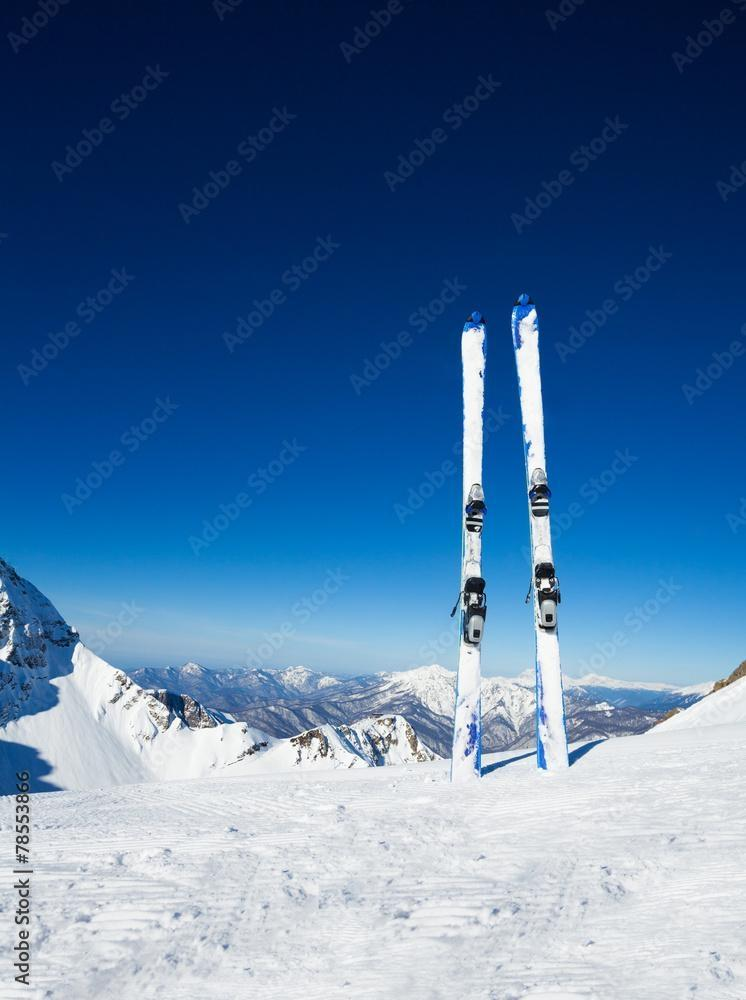Skis: (362, 256, 654, 798)
